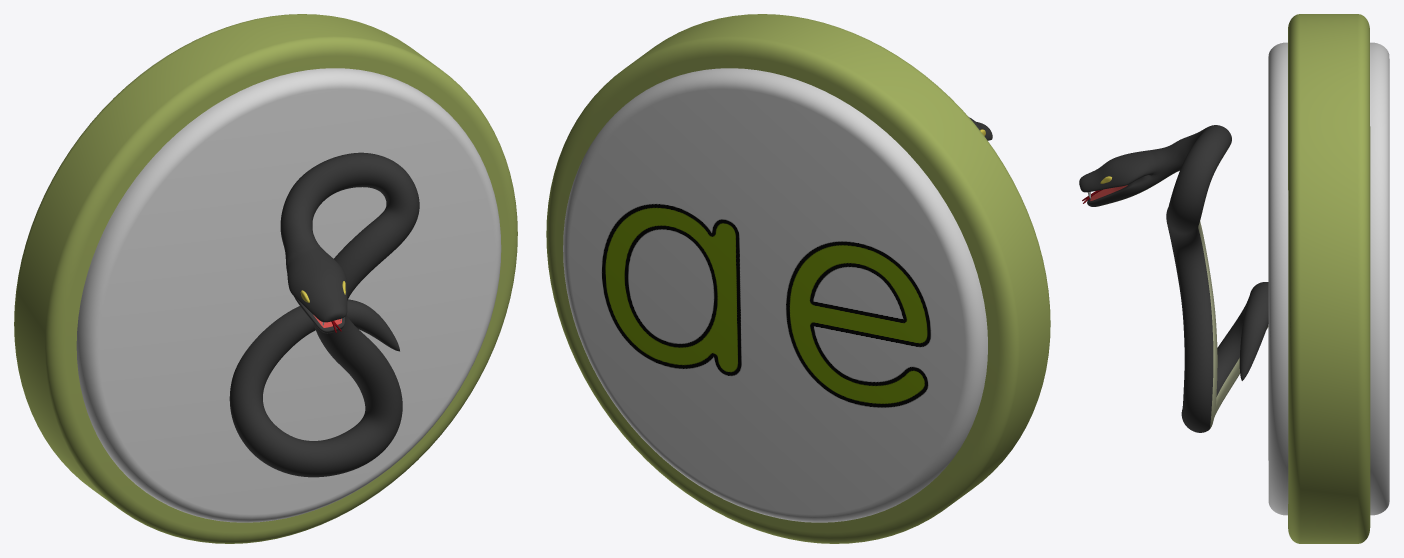
Rendered from snake.gltf.
The picture shows the model from 3 angles, left to right: view 1: azimuth 30°, elevation 25°; view 2: azimuth 150°, elevation 25°; view 3: azimuth 270°, elevation 25°; orthographic projection. The views are drawn at different scales.
Parts seen in each view (by area): view 1: Cylinder_2, Cylinder.001, Cylinder; view 2: Cylinder_2, Cylinder.001; view 3: Cylinder.001, Cylinder_2, Cylinder.
Boxes of the visible parts, <box> form: Cylinder_2: <box>76,68,501,522</box>; Cylinder.001: <box>14,14,517,543</box>; Cylinder: <box>229,152,419,477</box>; Cylinder_2: <box>563,68,987,522</box>; Cylinder.001: <box>546,14,1050,543</box>; Cylinder.001: <box>1288,14,1370,543</box>; Cylinder_2: <box>1268,42,1389,515</box>; Cylinder: <box>1079,125,1268,432</box>.
Size of the model in its own units: 2.56 by 2.56 by 1.5.
Materials: 8 (1 with a texture image).
